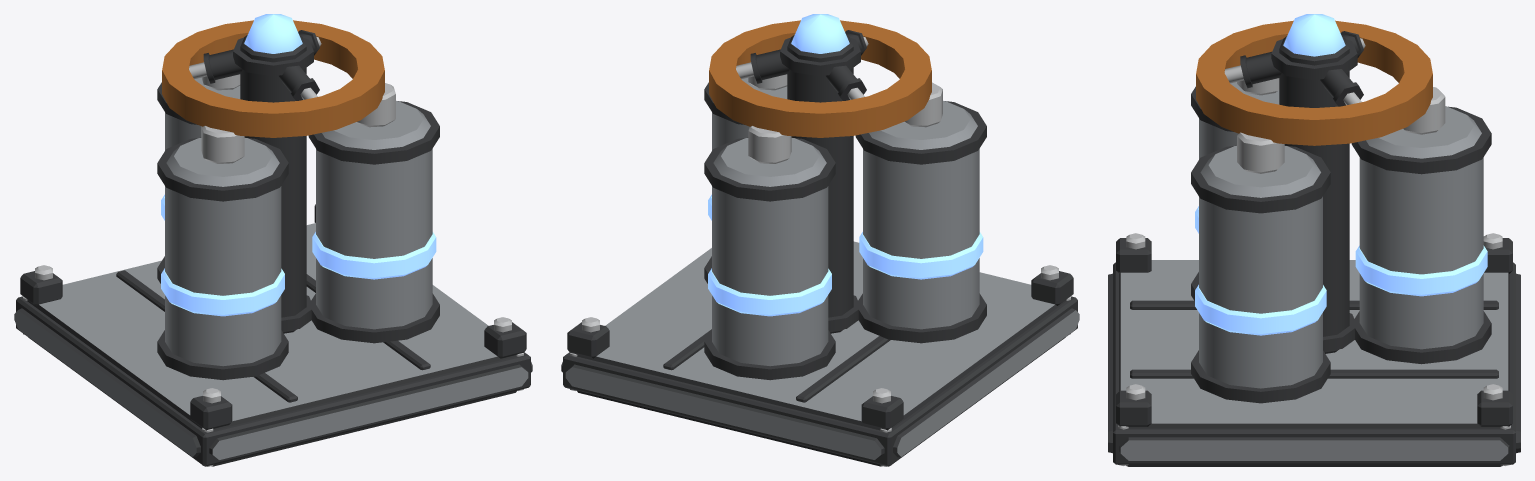
Rendered from R4X_ChargeRegenerator.fbx.
3 views of the same model, side by side, from view 1: azimuth 30°, elevation 25°; view 2: azimuth 150°, elevation 25°; view 3: azimuth 270°, elevation 25° (orthographic). The views are drawn at different scales.
Parts seen in each view (by area): view 1: R4X_ChargeRegenerator_Body; view 2: R4X_ChargeRegenerator_Body; view 3: R4X_ChargeRegenerator_Body.
Boxes of the visible parts, bbox=[...] form: R4X_ChargeRegenerator_Body: bbox=[14, 14, 532, 466]; R4X_ChargeRegenerator_Body: bbox=[561, 14, 1079, 466]; R4X_ChargeRegenerator_Body: bbox=[1108, 14, 1520, 466].
Bounding box in the file's own units: 0.52 × 0.515 × 0.52.
